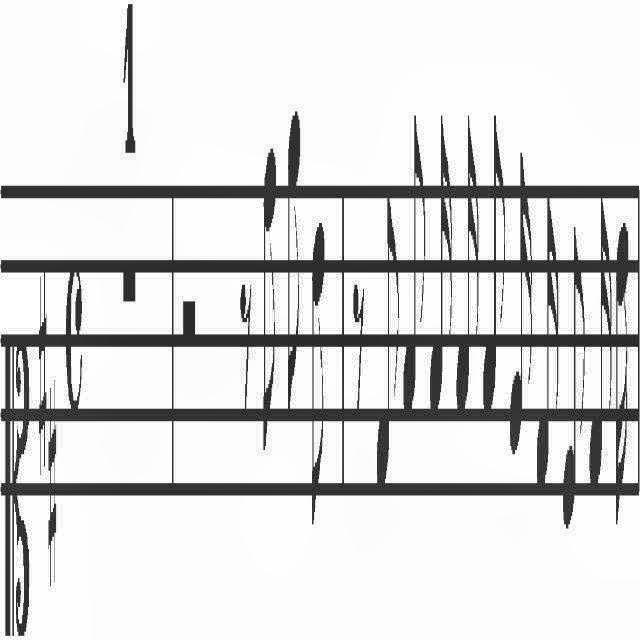Diez: (46, 374, 58, 588), (38, 262, 48, 470)
Eighth-note: (376, 190, 400, 512), (402, 109, 426, 427), (562, 221, 586, 537), (482, 110, 506, 420), (262, 138, 278, 470), (286, 100, 302, 432), (310, 213, 326, 544)
Eighth-rest: (239, 270, 253, 418), (352, 280, 364, 410)
Sixteenth-note: (428, 107, 454, 430), (510, 140, 534, 456), (456, 110, 480, 420), (588, 187, 612, 493), (536, 190, 560, 494), (614, 219, 630, 537)
